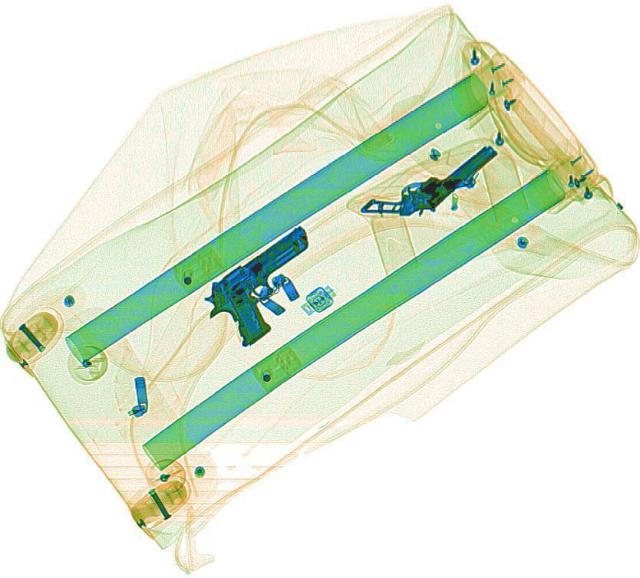Gun: (188, 223, 350, 349), (357, 122, 503, 241)
